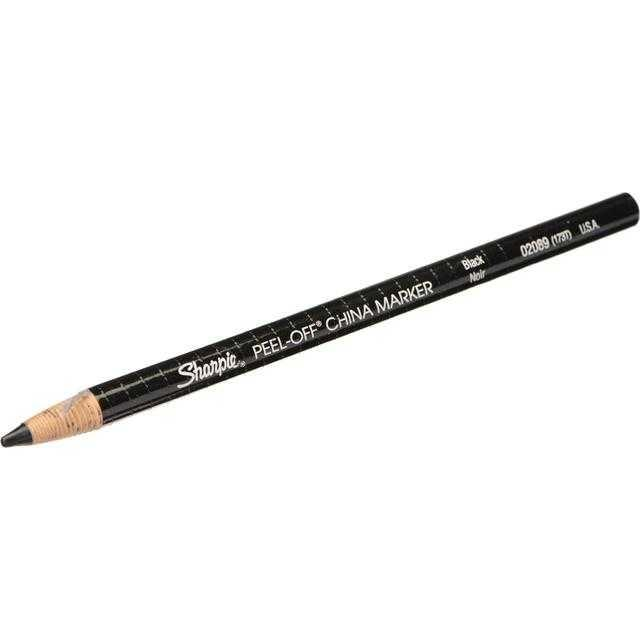pencil: (0, 170, 639, 457)
